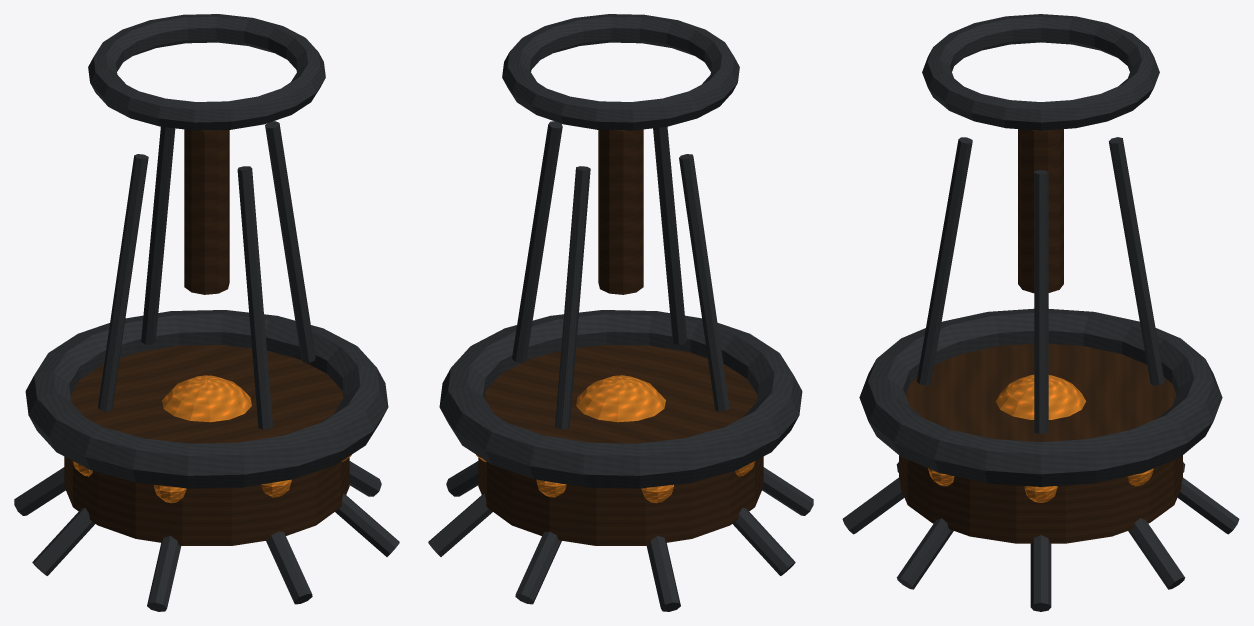
The model's file is underworld-tool-defiant-censer.glb.
The picture shows the model from 3 angles, left to right: view 1: azimuth 30°, elevation 25°; view 2: azimuth 150°, elevation 25°; view 3: azimuth 270°, elevation 25°; orthographic projection.
Visible parts, largest first — view 1: bowl, bowl-rim, carry-ring, rotwood-grip, chain-3, chain-2, chain-0, chain-1, amber-heart, bone-ray-4, bone-ray-5, bone-ray-6 (+3 smaller); view 2: bowl, bowl-rim, carry-ring, rotwood-grip, chain-1, chain-2, chain-0, chain-3, amber-heart, bone-ray-4, bone-ray-3, bone-ray-2 (+3 smaller); view 3: bowl, bowl-rim, carry-ring, rotwood-grip, chain-0, chain-1, chain-3, amber-heart, bone-ray-0, bone-ray-1, bone-ray-7, bone-ray-2 (+1 smaller).
Part boxes in pixels (x1=…): bowl: x1=64, y1=344, x2=349, y2=545; bowl-rim: x1=25, y1=310, x2=388, y2=488; carry-ring: x1=88, y1=14, x2=325, y2=130; rotwood-grip: x1=184, y1=129, x2=229, y2=294; chain-3: x1=237, y1=166, x2=272, y2=429; chain-2: x1=98, y1=154, x2=148, y2=411; chain-0: x1=265, y1=121, x2=315, y2=362; chain-1: x1=141, y1=127, x2=175, y2=344; amber-heart: x1=162, y1=375, x2=251, y2=422; bone-ray-4: x1=32, y1=507, x2=95, y2=575; bone-ray-5: x1=147, y1=536, x2=181, y2=611; bone-ray-6: x1=266, y1=531, x2=312, y2=604; bowl: x1=478, y1=344, x2=763, y2=545; bowl-rim: x1=439, y1=310, x2=802, y2=488; carry-ring: x1=502, y1=14, x2=739, y2=130; rotwood-grip: x1=598, y1=129, x2=643, y2=294; chain-1: x1=555, y1=166, x2=590, y2=429; chain-2: x1=679, y1=154, x2=729, y2=411; chain-0: x1=512, y1=121, x2=562, y2=362; chain-3: x1=653, y1=126, x2=686, y2=344; amber-heart: x1=576, y1=375, x2=665, y2=422; bone-ray-4: x1=732, y1=507, x2=795, y2=575; bone-ray-3: x1=646, y1=536, x2=680, y2=611; bone-ray-2: x1=515, y1=531, x2=561, y2=604; bowl: x1=899, y1=343, x2=1182, y2=543; bowl-rim: x1=859, y1=308, x2=1222, y2=486; carry-ring: x1=922, y1=14, x2=1159, y2=130; rotwood-grip: x1=1018, y1=129, x2=1063, y2=293; chain-0: x1=1034, y1=170, x2=1048, y2=433; chain-1: x1=1108, y1=137, x2=1164, y2=385; chain-3: x1=916, y1=137, x2=972, y2=385; amber-heart: x1=996, y1=374, x2=1085, y2=419; bone-ray-0: x1=1030, y1=535, x2=1051, y2=611; bone-ray-1: x1=1128, y1=518, x2=1185, y2=589; bone-ray-7: x1=896, y1=518, x2=953, y2=589; bone-ray-2: x1=1177, y1=477, x2=1239, y2=534.
Bounding box in the file's own units: 0.9515 × 1.25 × 0.9515.
Materials: 3 (3 with a texture image).
